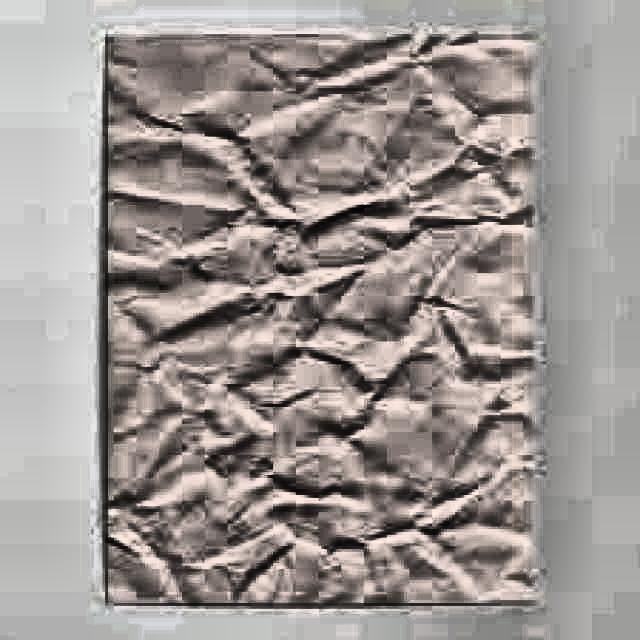Paper: (100, 23, 526, 603)
